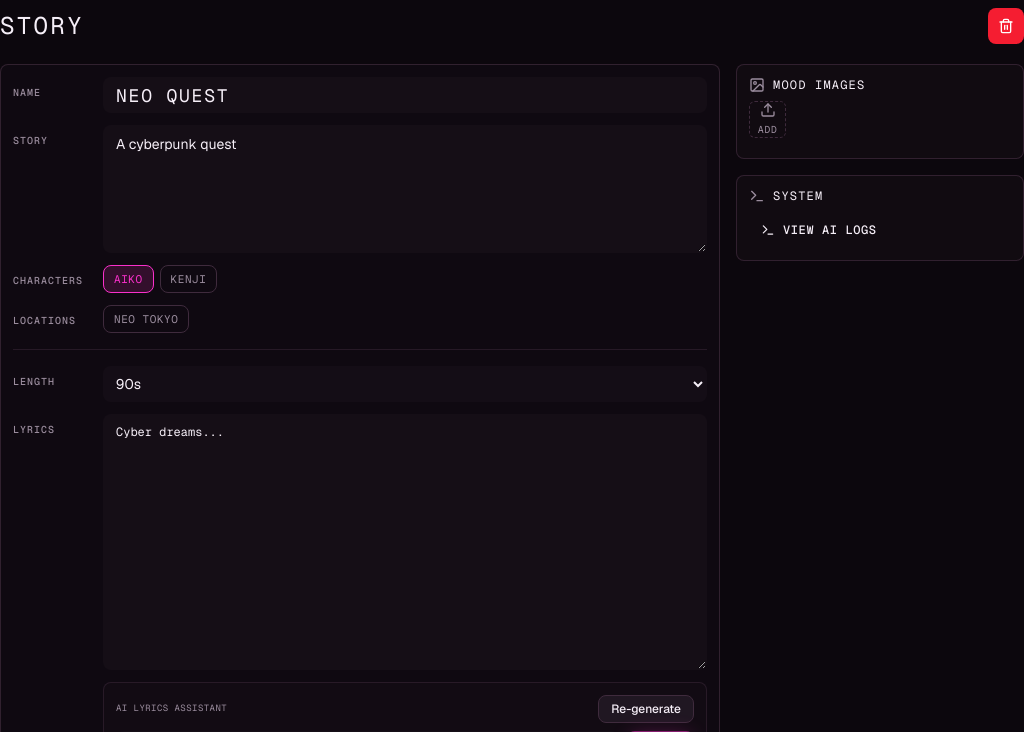
Test: StoryForm › Edit Mode › performs autosave after debounce delay when fields are changed
Note: Change description
Type " Updated." into the 1st text box with placeholder "What happens? Beats, twists, mood…" at (405, 189), box [103,125,707,253]
(page scrolled)
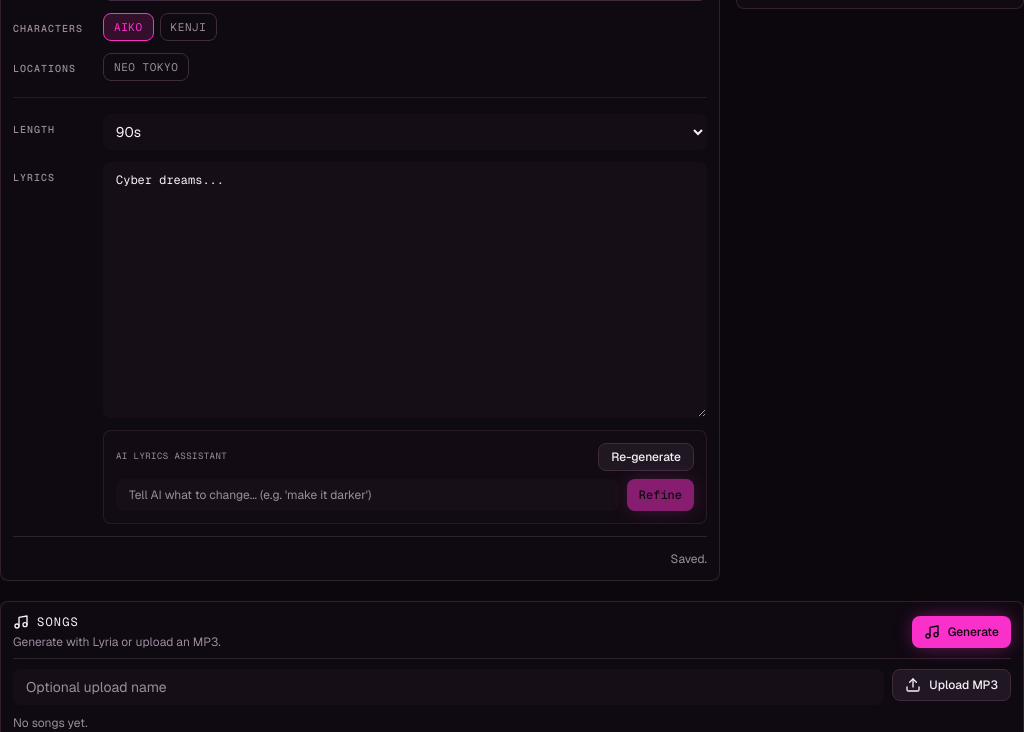
Now the text "Saved." is shown, box [671,550,707,566]
